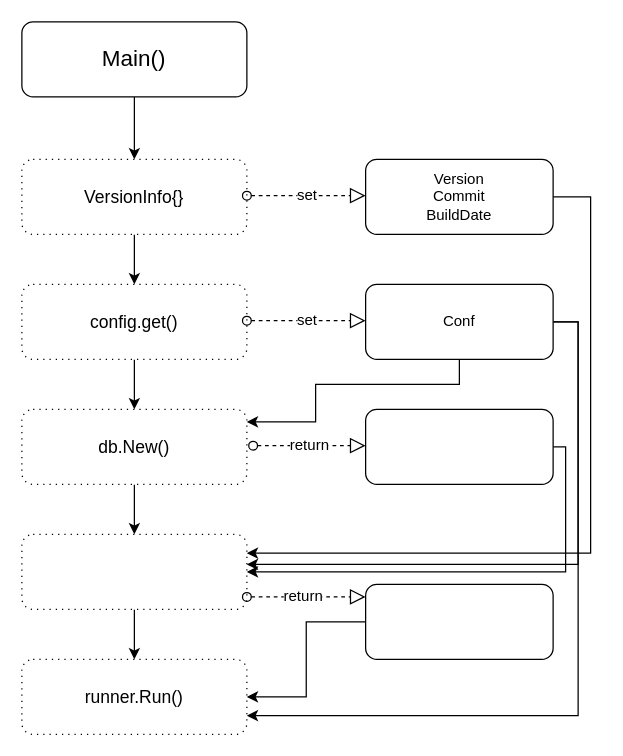
This 623x756 diagram has some shape labels left out. The box of each missing label's shape, as (x1, y1, x2, y2) in pixels:
db: (364, 408, 553, 484)
engine: (364, 583, 553, 659)
router.Create(): (21, 533, 247, 609)
